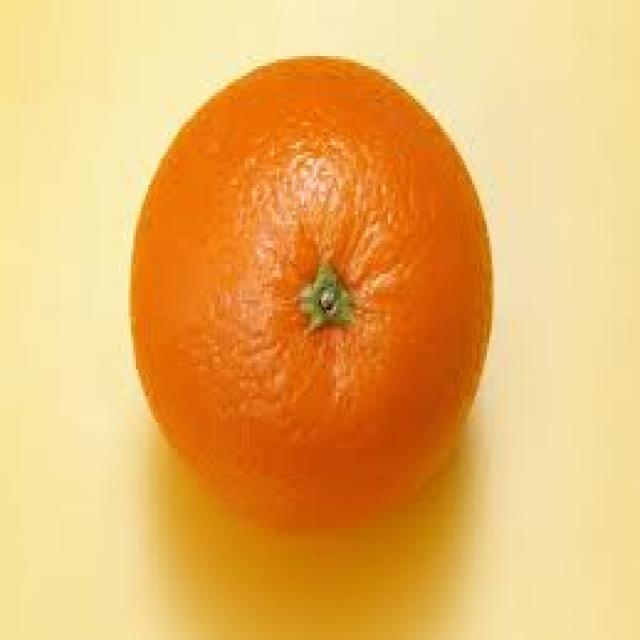Orange: (126, 58, 501, 533)
